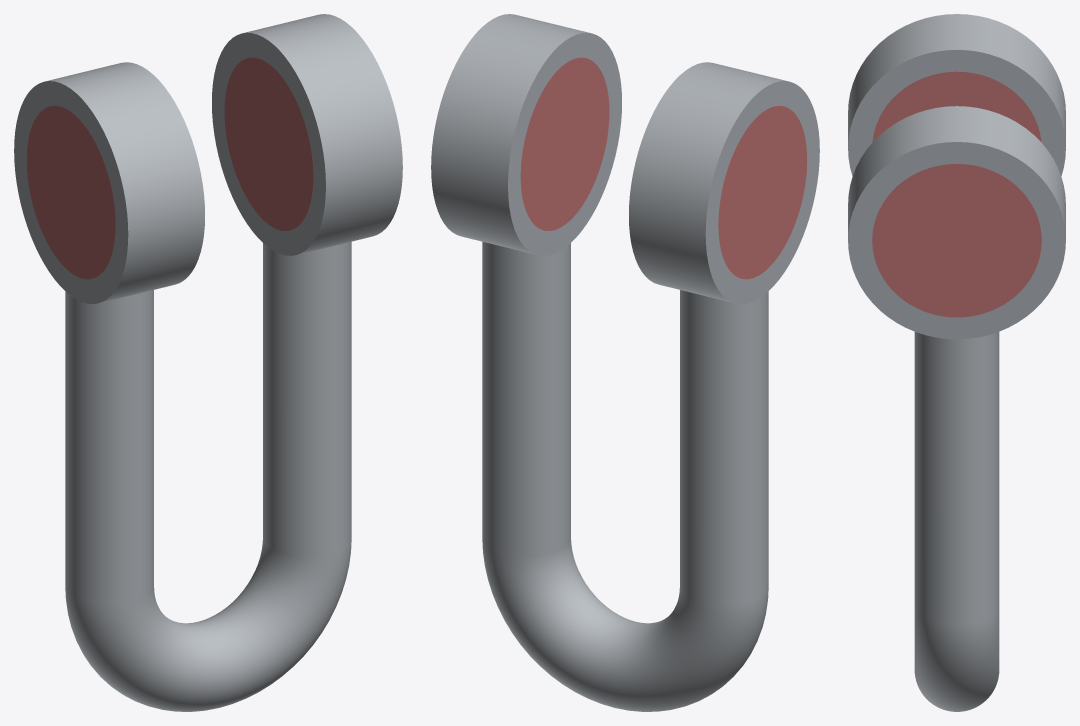
Rendered from step_03.glb.
The picture shows the model from 3 angles, left to right: view 1: azimuth 30°, elevation 25°; view 2: azimuth 150°, elevation 25°; view 3: azimuth 270°, elevation 25°; orthographic projection. The views are drawn at different scales.
Visible parts, largest first — view 1: part__bow shackle, removed__bow shackle; view 2: part__bow shackle, removed__bow shackle; view 3: part__bow shackle, removed__bow shackle.
Boxes of the visible parts, x1,y1,x2,y2 form: part__bow shackle: [14, 14, 402, 711]; removed__bow shackle: [26, 57, 313, 279]; part__bow shackle: [431, 14, 819, 711]; removed__bow shackle: [520, 57, 807, 279]; part__bow shackle: [848, 14, 1065, 711]; removed__bow shackle: [872, 71, 1041, 317].
Bounding box in the file's own units: 50 × 113 × 36.
